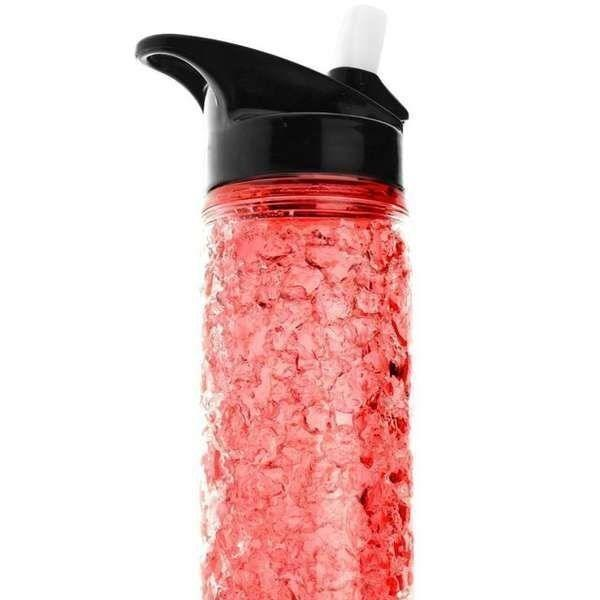gym bottle: (134, 27, 419, 599)
